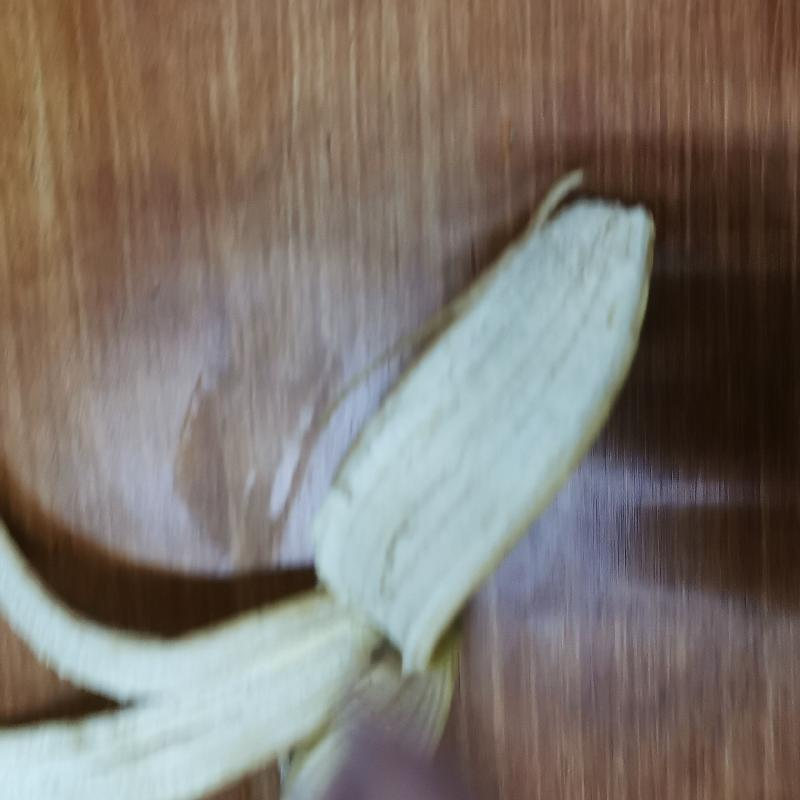bananas: (10, 147, 702, 800)
